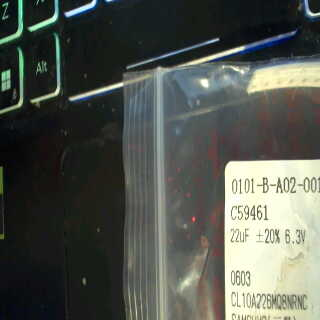22uF: (229, 226, 250, 247)
